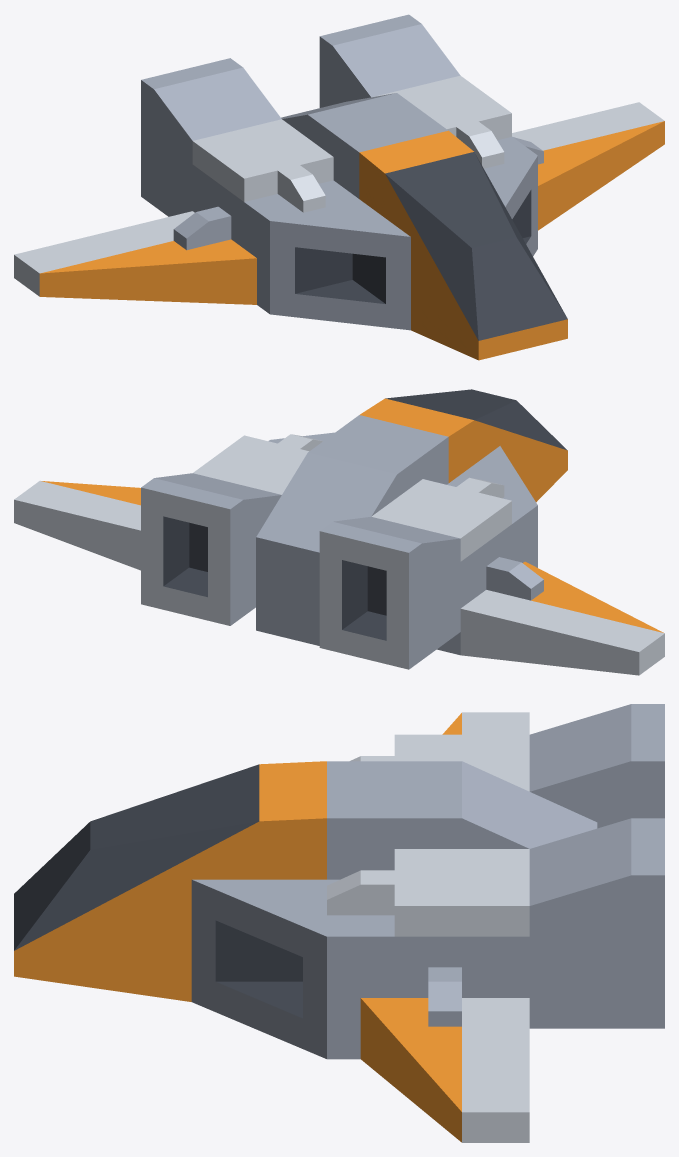
Rendered from craft_speederC.fbx.
3 views of the same model, one above another, from view 1: azimuth 30°, elevation 25°; view 2: azimuth 150°, elevation 25°; view 3: azimuth 270°, elevation 25° (orthographic). The views are drawn at different scales.
Parts seen in each view (by area): view 1: craft_speederC; view 2: craft_speederC; view 3: craft_speederC.
Boxes of the visible parts, x1=… form: craft_speederC: x1=14, y1=14, x2=664, y2=360; craft_speederC: x1=14, y1=389, x2=664, y2=675; craft_speederC: x1=14, y1=704, x2=664, y2=1142.
Size of the model in its own units: 28 by 6 by 19.26.
